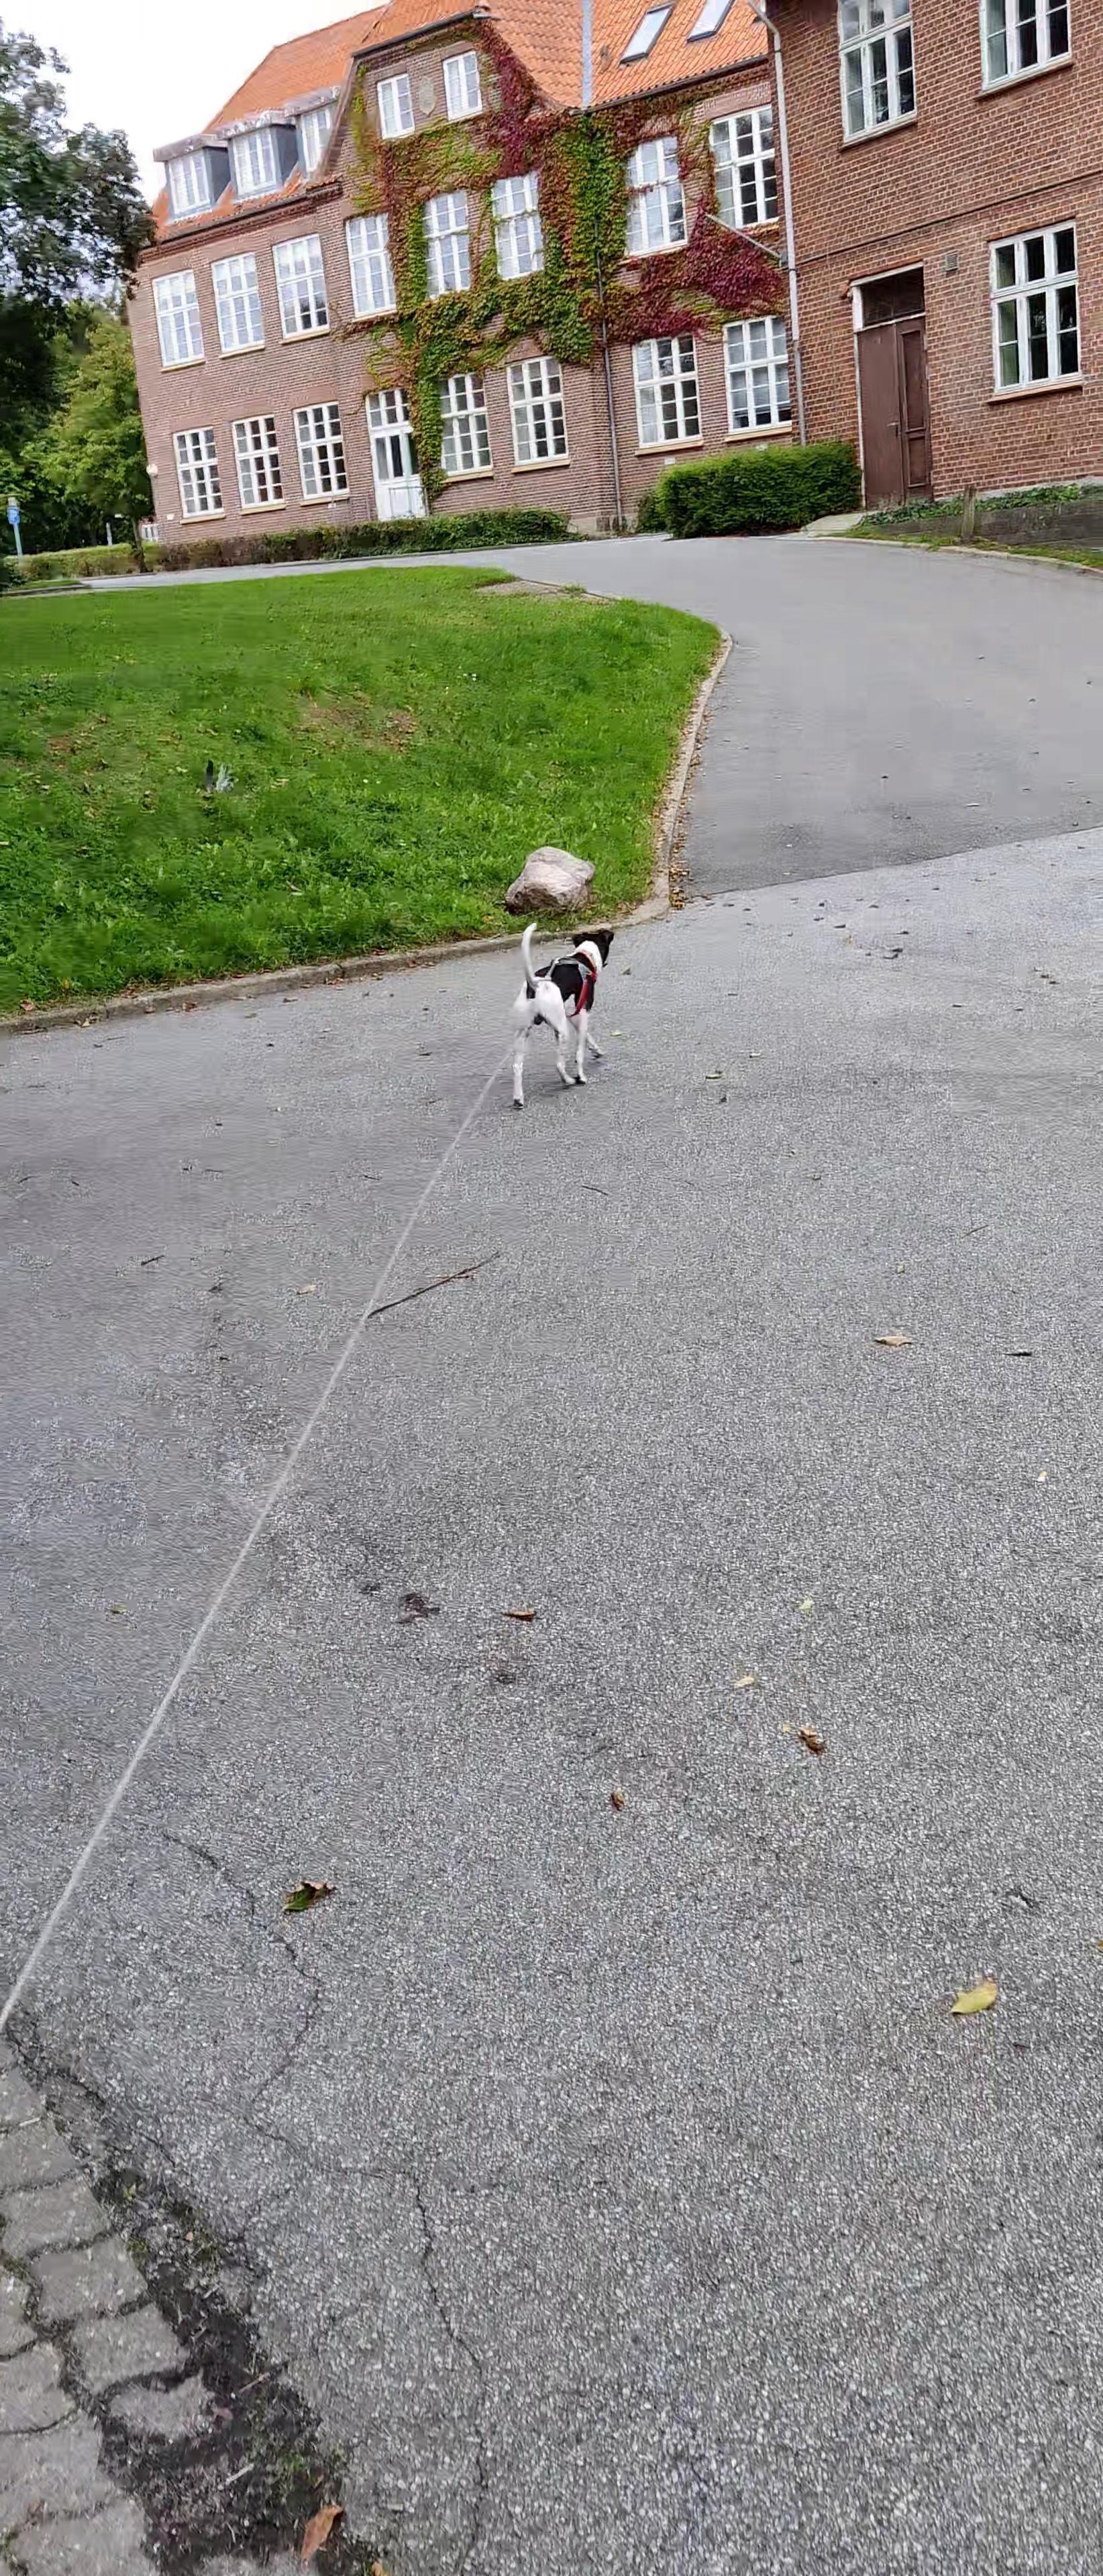Dog: (506, 918, 615, 1112)
